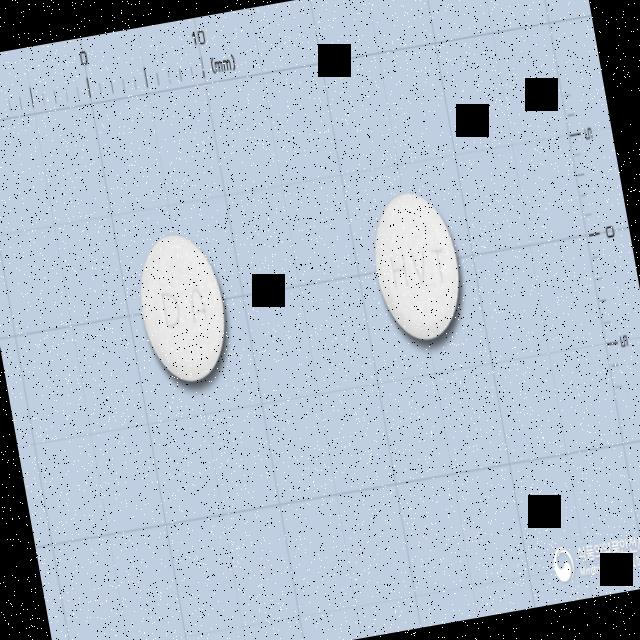Hepsevir: (128, 224, 236, 390), (362, 182, 470, 346)
